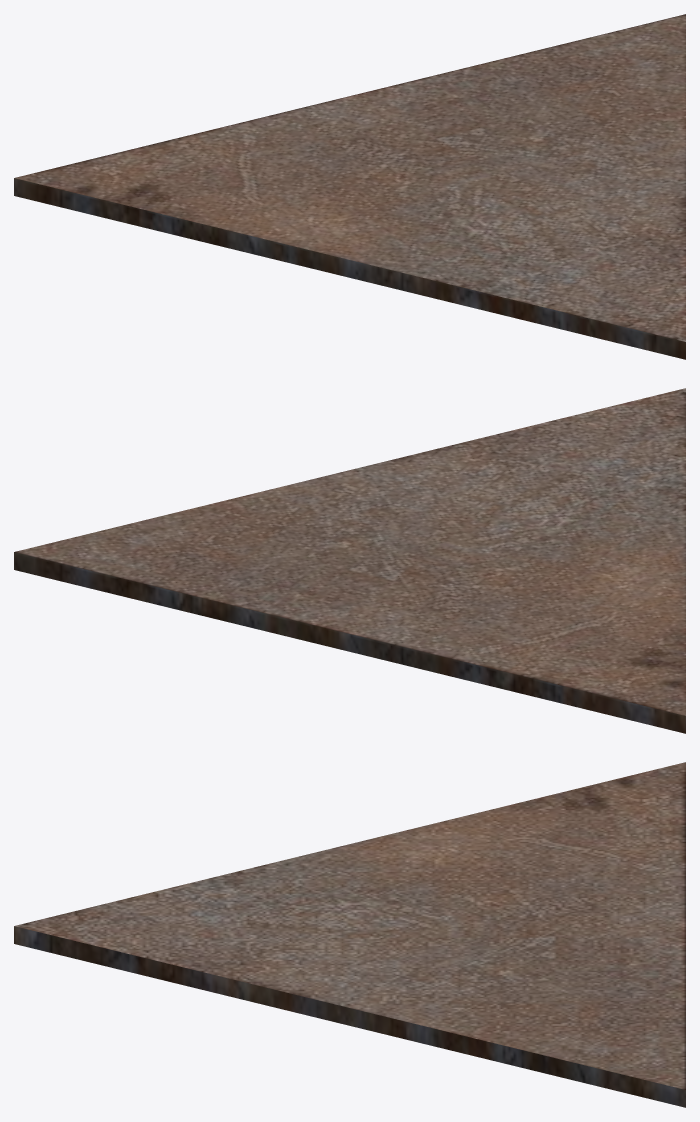
File: metal_foundation_triangle_low_textured.glb
3 views of the same model, one above another, from view 1: azimuth 30°, elevation 25°; view 2: azimuth 150°, elevation 25°; view 3: azimuth 270°, elevation 25° (orthographic).
Parts seen in each view (by area): view 1: Circle.001; view 2: Circle.001; view 3: Circle.001.
Boxes of the visible parts, <box> form: Circle.001: <box>14,14,685,359</box>; Circle.001: <box>14,388,685,733</box>; Circle.001: <box>14,762,685,1107</box>.
Bounding box in the file's own units: 2 × 0.0508 × 1.73.
Materials: 1 (1 with a texture image).
